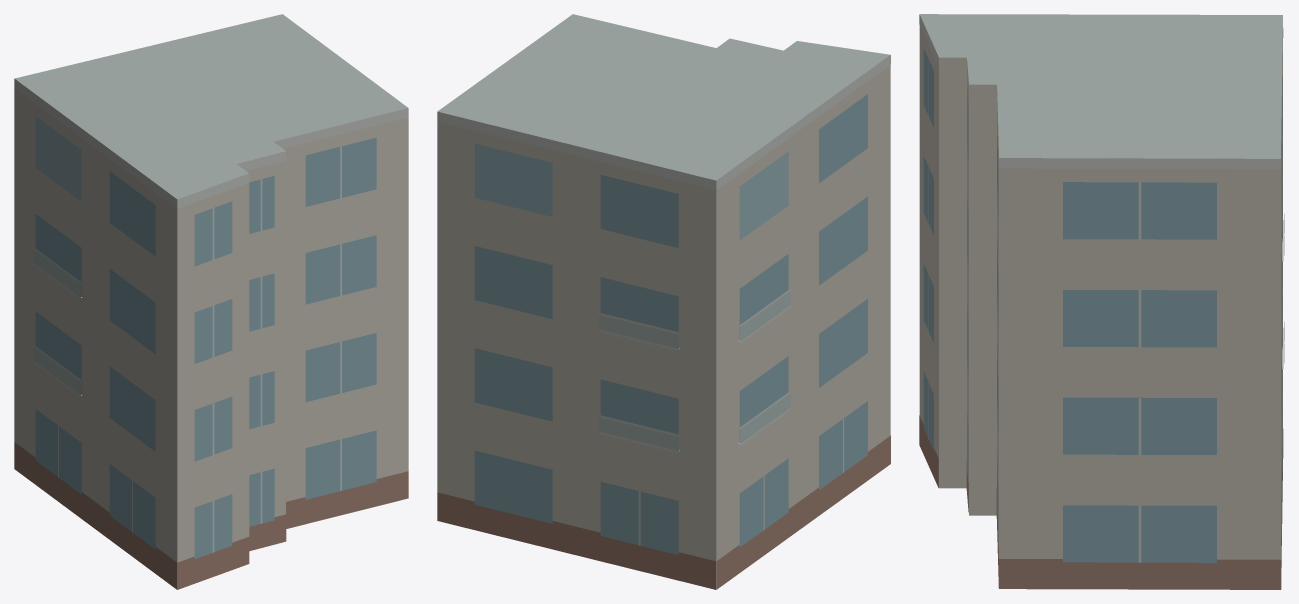
File: survey-upis-32474071.glb
The picture shows the model from 3 angles, left to right: view 1: azimuth 30°, elevation 25°; view 2: azimuth 150°, elevation 25°; view 3: azimuth 270°, elevation 25°; orthographic projection. The views are drawn at different scales.
Visible parts, largest first — view 1: survey-upis-32474071.tmp; view 2: survey-upis-32474071.tmp; view 3: survey-upis-32474071.tmp.
Part boxes in pixels (bbox=[...]): survey-upis-32474071.tmp: bbox=[14, 14, 408, 589]; survey-upis-32474071.tmp: bbox=[437, 14, 890, 589]; survey-upis-32474071.tmp: bbox=[919, 14, 1284, 589].
Size of the model in its own units: 7.3 by 10.1 by 7.76.
